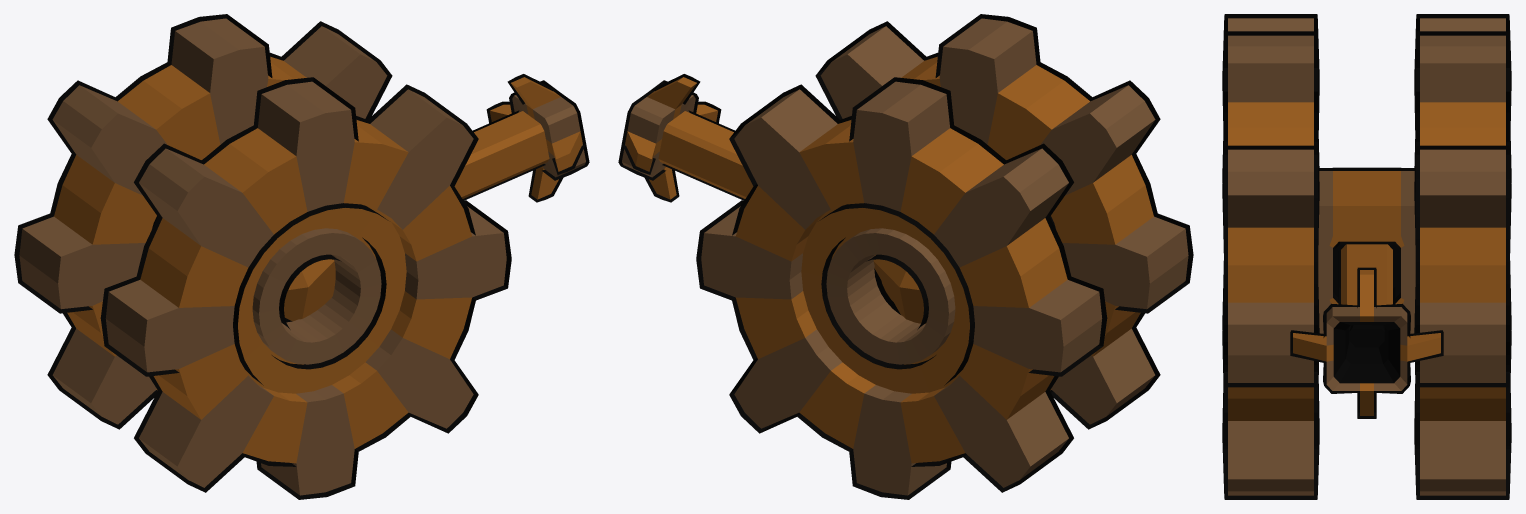
Rendered from Basic_Tower_2.fbx.
3 renders of one model, left to right at view 1: azimuth 30°, elevation 25°; view 2: azimuth 150°, elevation 25°; view 3: azimuth 270°, elevation 25°, orthographic. The views are drawn at different scales.
Visible parts, largest first — view 1: Cylinder, Cube; view 2: Cylinder, Cube; view 3: Cylinder, Cube.
Part boxes in pixels (bbox=[...]): Cylinder: bbox=[14, 14, 511, 499]; Cube: bbox=[284, 74, 589, 321]; Cylinder: bbox=[696, 14, 1193, 499]; Cube: bbox=[618, 74, 925, 323]; Cylinder: bbox=[1222, 14, 1511, 499]; Cube: bbox=[1290, 167, 1443, 418].
Bounding box in the file's own units: 151 × 330 × 247.
